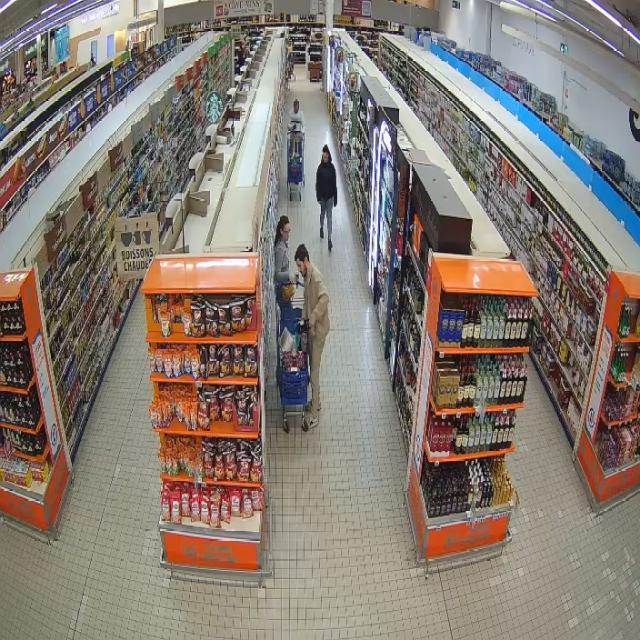article: (296, 319, 308, 333)
person: (295, 243, 329, 429), (315, 144, 336, 250), (275, 214, 294, 283), (288, 99, 304, 132)
